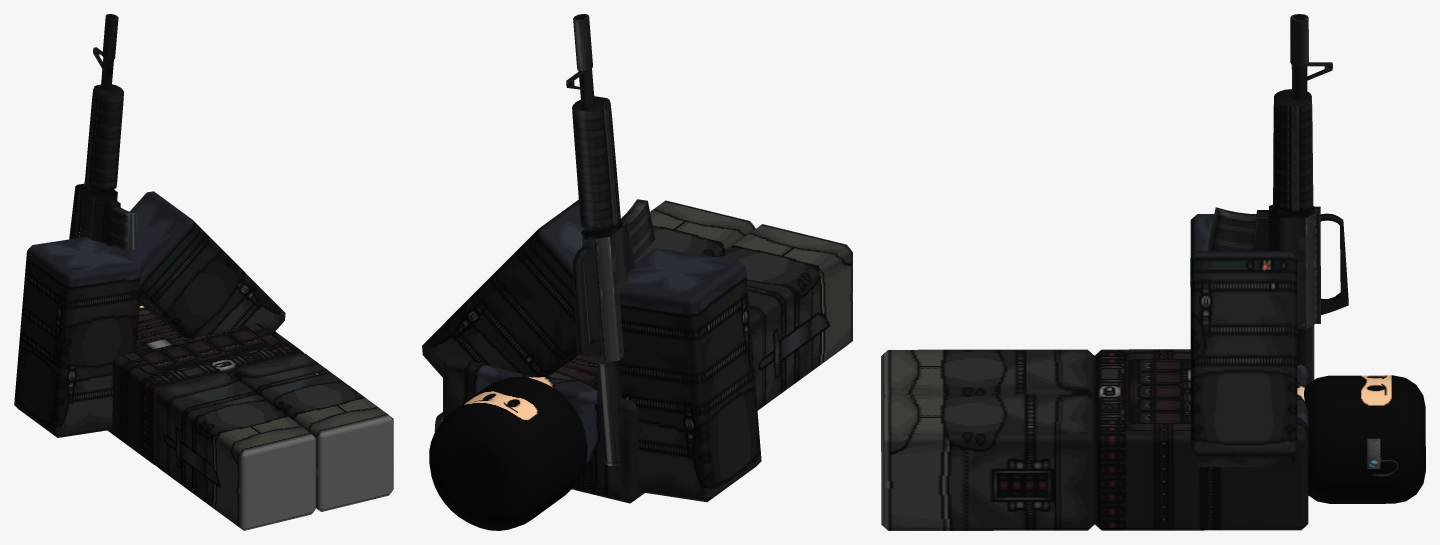
Rendered from Soldier_.fbx.
The picture shows the model from 3 angles, left to right: view 1: azimuth 30°, elevation 25°; view 2: azimuth 150°, elevation 25°; view 3: azimuth 270°, elevation 25°; orthographic projection. The views are drawn at different scales.
Parts seen in each view (by area): view 1: Soldier; view 2: Soldier; view 3: Soldier.
Part boxes in pixels (x1,y1,x2,y2): Soldier: (14, 14, 393, 530); Soldier: (422, 14, 852, 530); Soldier: (881, 14, 1425, 530).
Size of the model in its own units: 301 by 477 by 510.
Materials: 2 (2 with a texture image).
